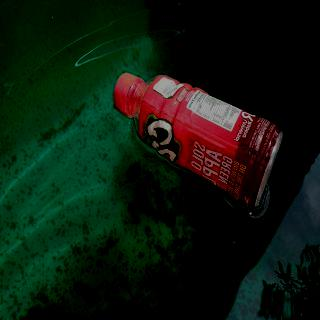bottle: (112, 68, 286, 210)
